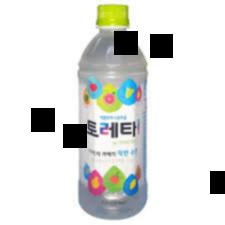toreta: (74, 0, 153, 220)
